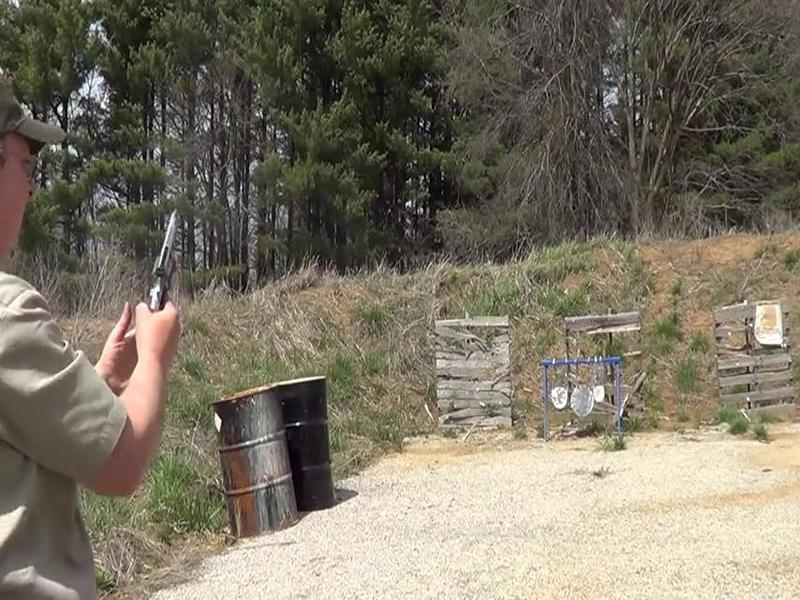Revolver: (129, 204, 202, 340)
